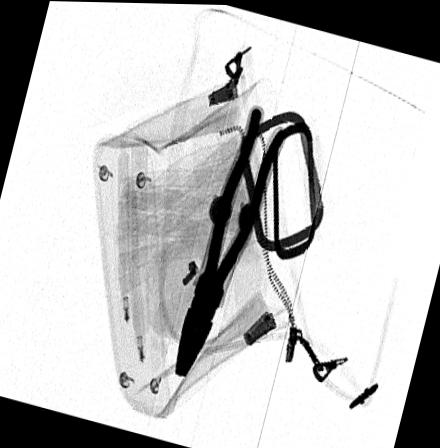Pliers: (176, 103, 287, 377)
